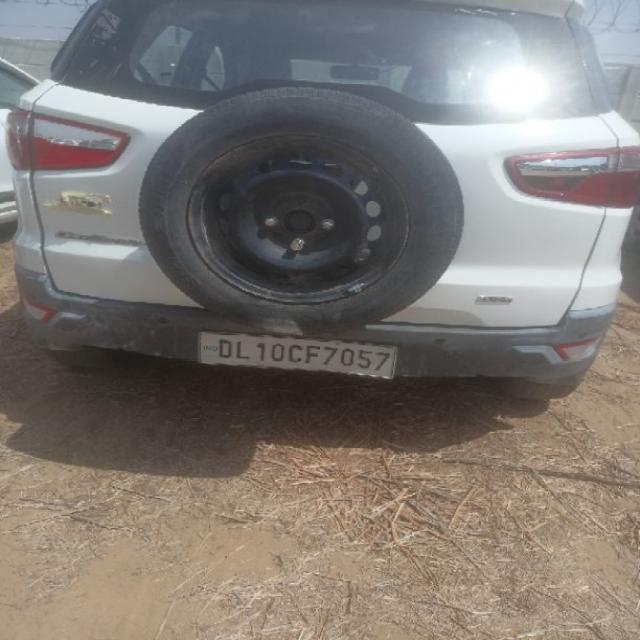license_plate: (195, 330, 398, 380)
